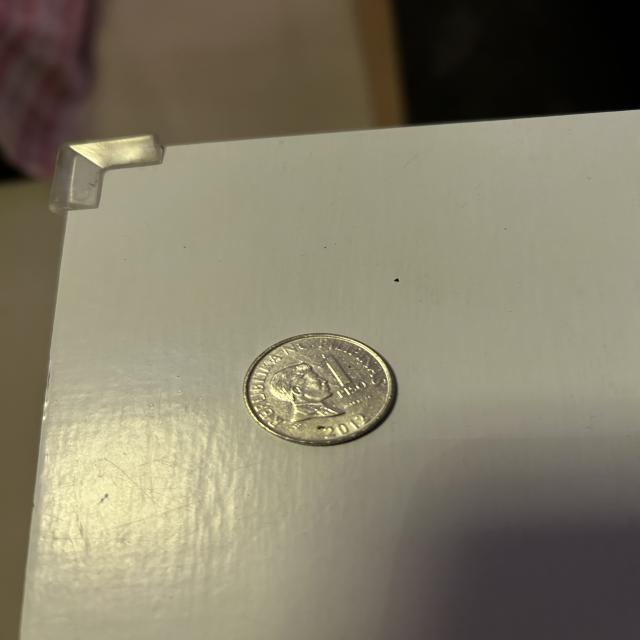1_Old_Front: (313, 352, 370, 402)
